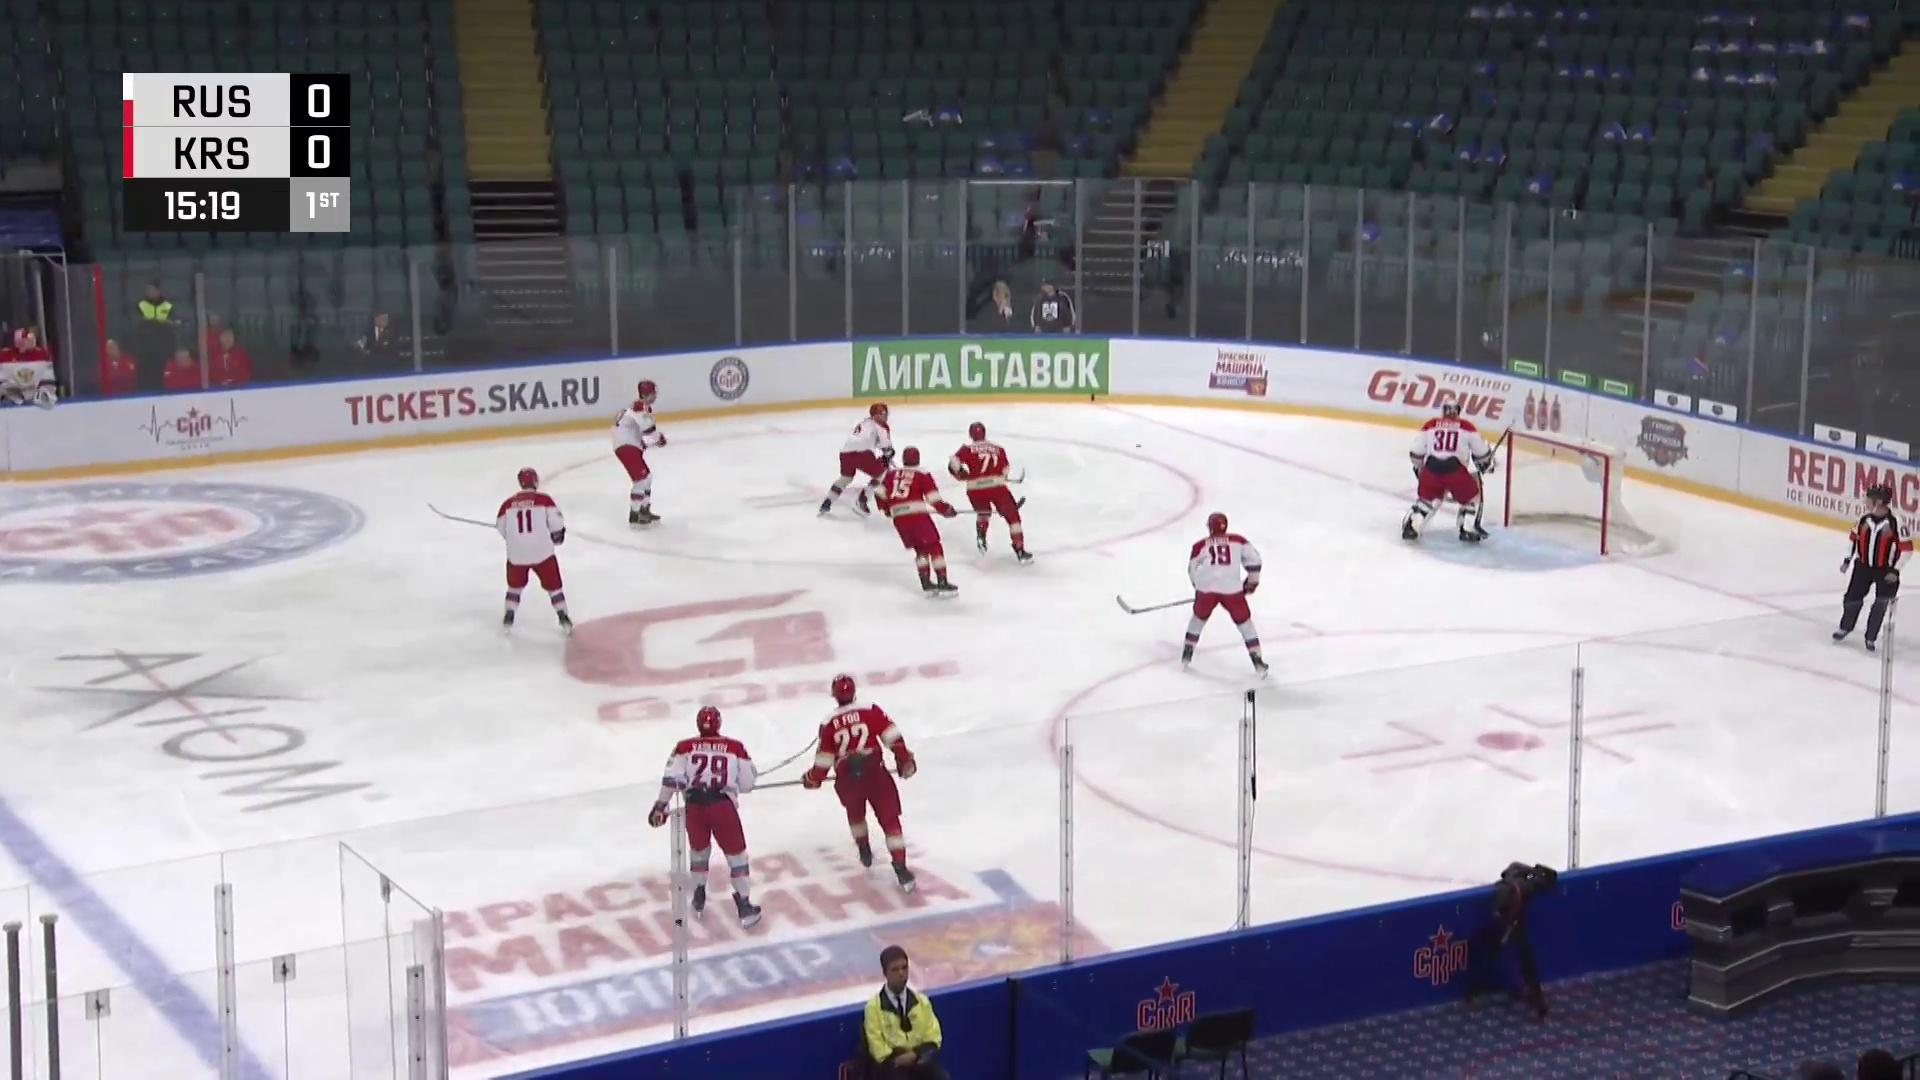ball: (1134, 442, 1143, 448)
